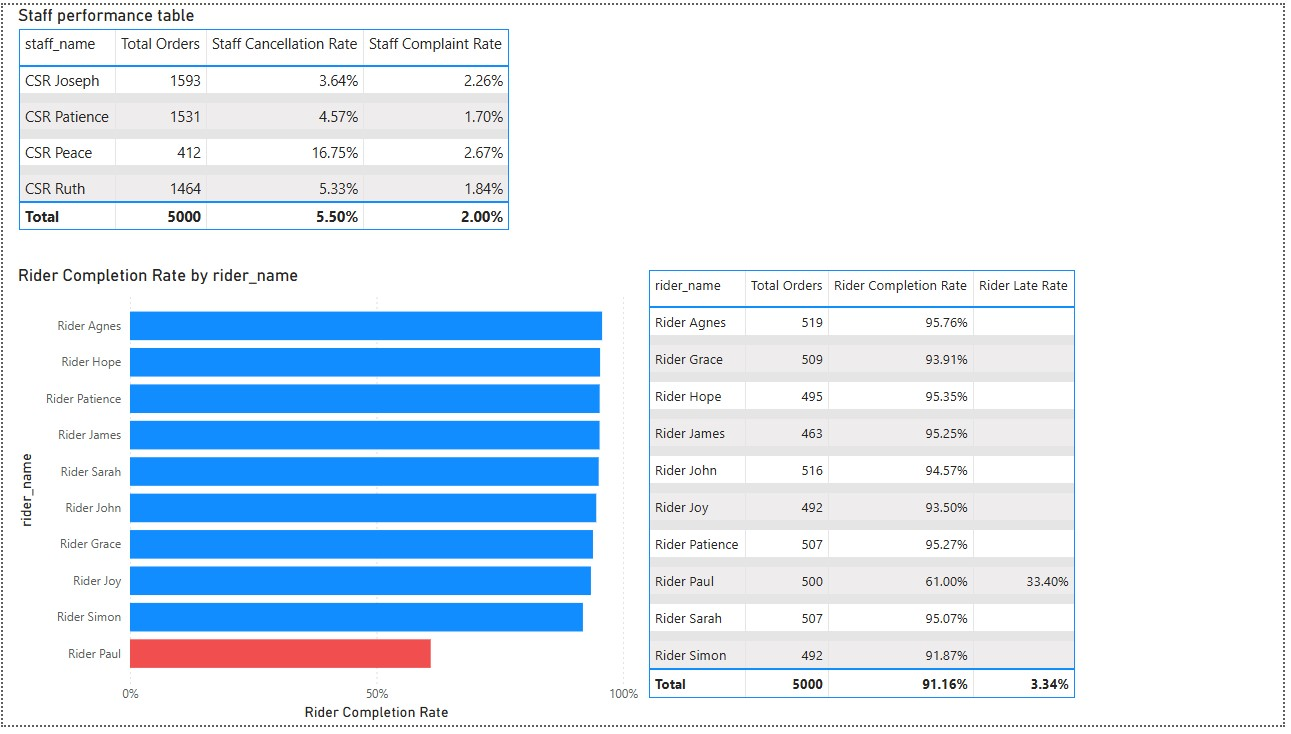

This screenshot's page, from the dashboard's own definition file:
{"tool":"powerbi","page":{"name":"Staff & Rider Performance","canvas":[1280,720],"ordinal":2},"visuals":[{"type":"tableEx","title":"Staff performance table","fields":{"Values":["staff.staff_name","orders.Total Orders","orders.Staff Cancellation Rate","complaints.Staff Complaint Rate"]},"box":[10,0,471,239],"z":0},{"type":"clusteredBarChart","fields":{"Category":["riders.rider_name"],"Y":["orders.Rider Completion Rate"]},"box":[10,260,630,460],"z":1000},{"type":"tableEx","fields":{"Values":["riders.rider_name","orders.Total Orders","orders.Rider Completion Rate","orders.Rider Late Rate"]},"box":[640,260,640,445],"z":2000}]}

Visuals, with their boxes in screenshot pixels (x1, y1, x2, y2), scaled from the page's 1280x720 canvas onto the 1291x734 screenshot:
"Staff performance table" tableEx: 10 0 485 244
clusteredBarChart - riders.rider_name x orders.Rider Completion Rate: 10 265 646 733
tableEx - riders.rider_name x orders.Total Orders: 646 265 1290 719
